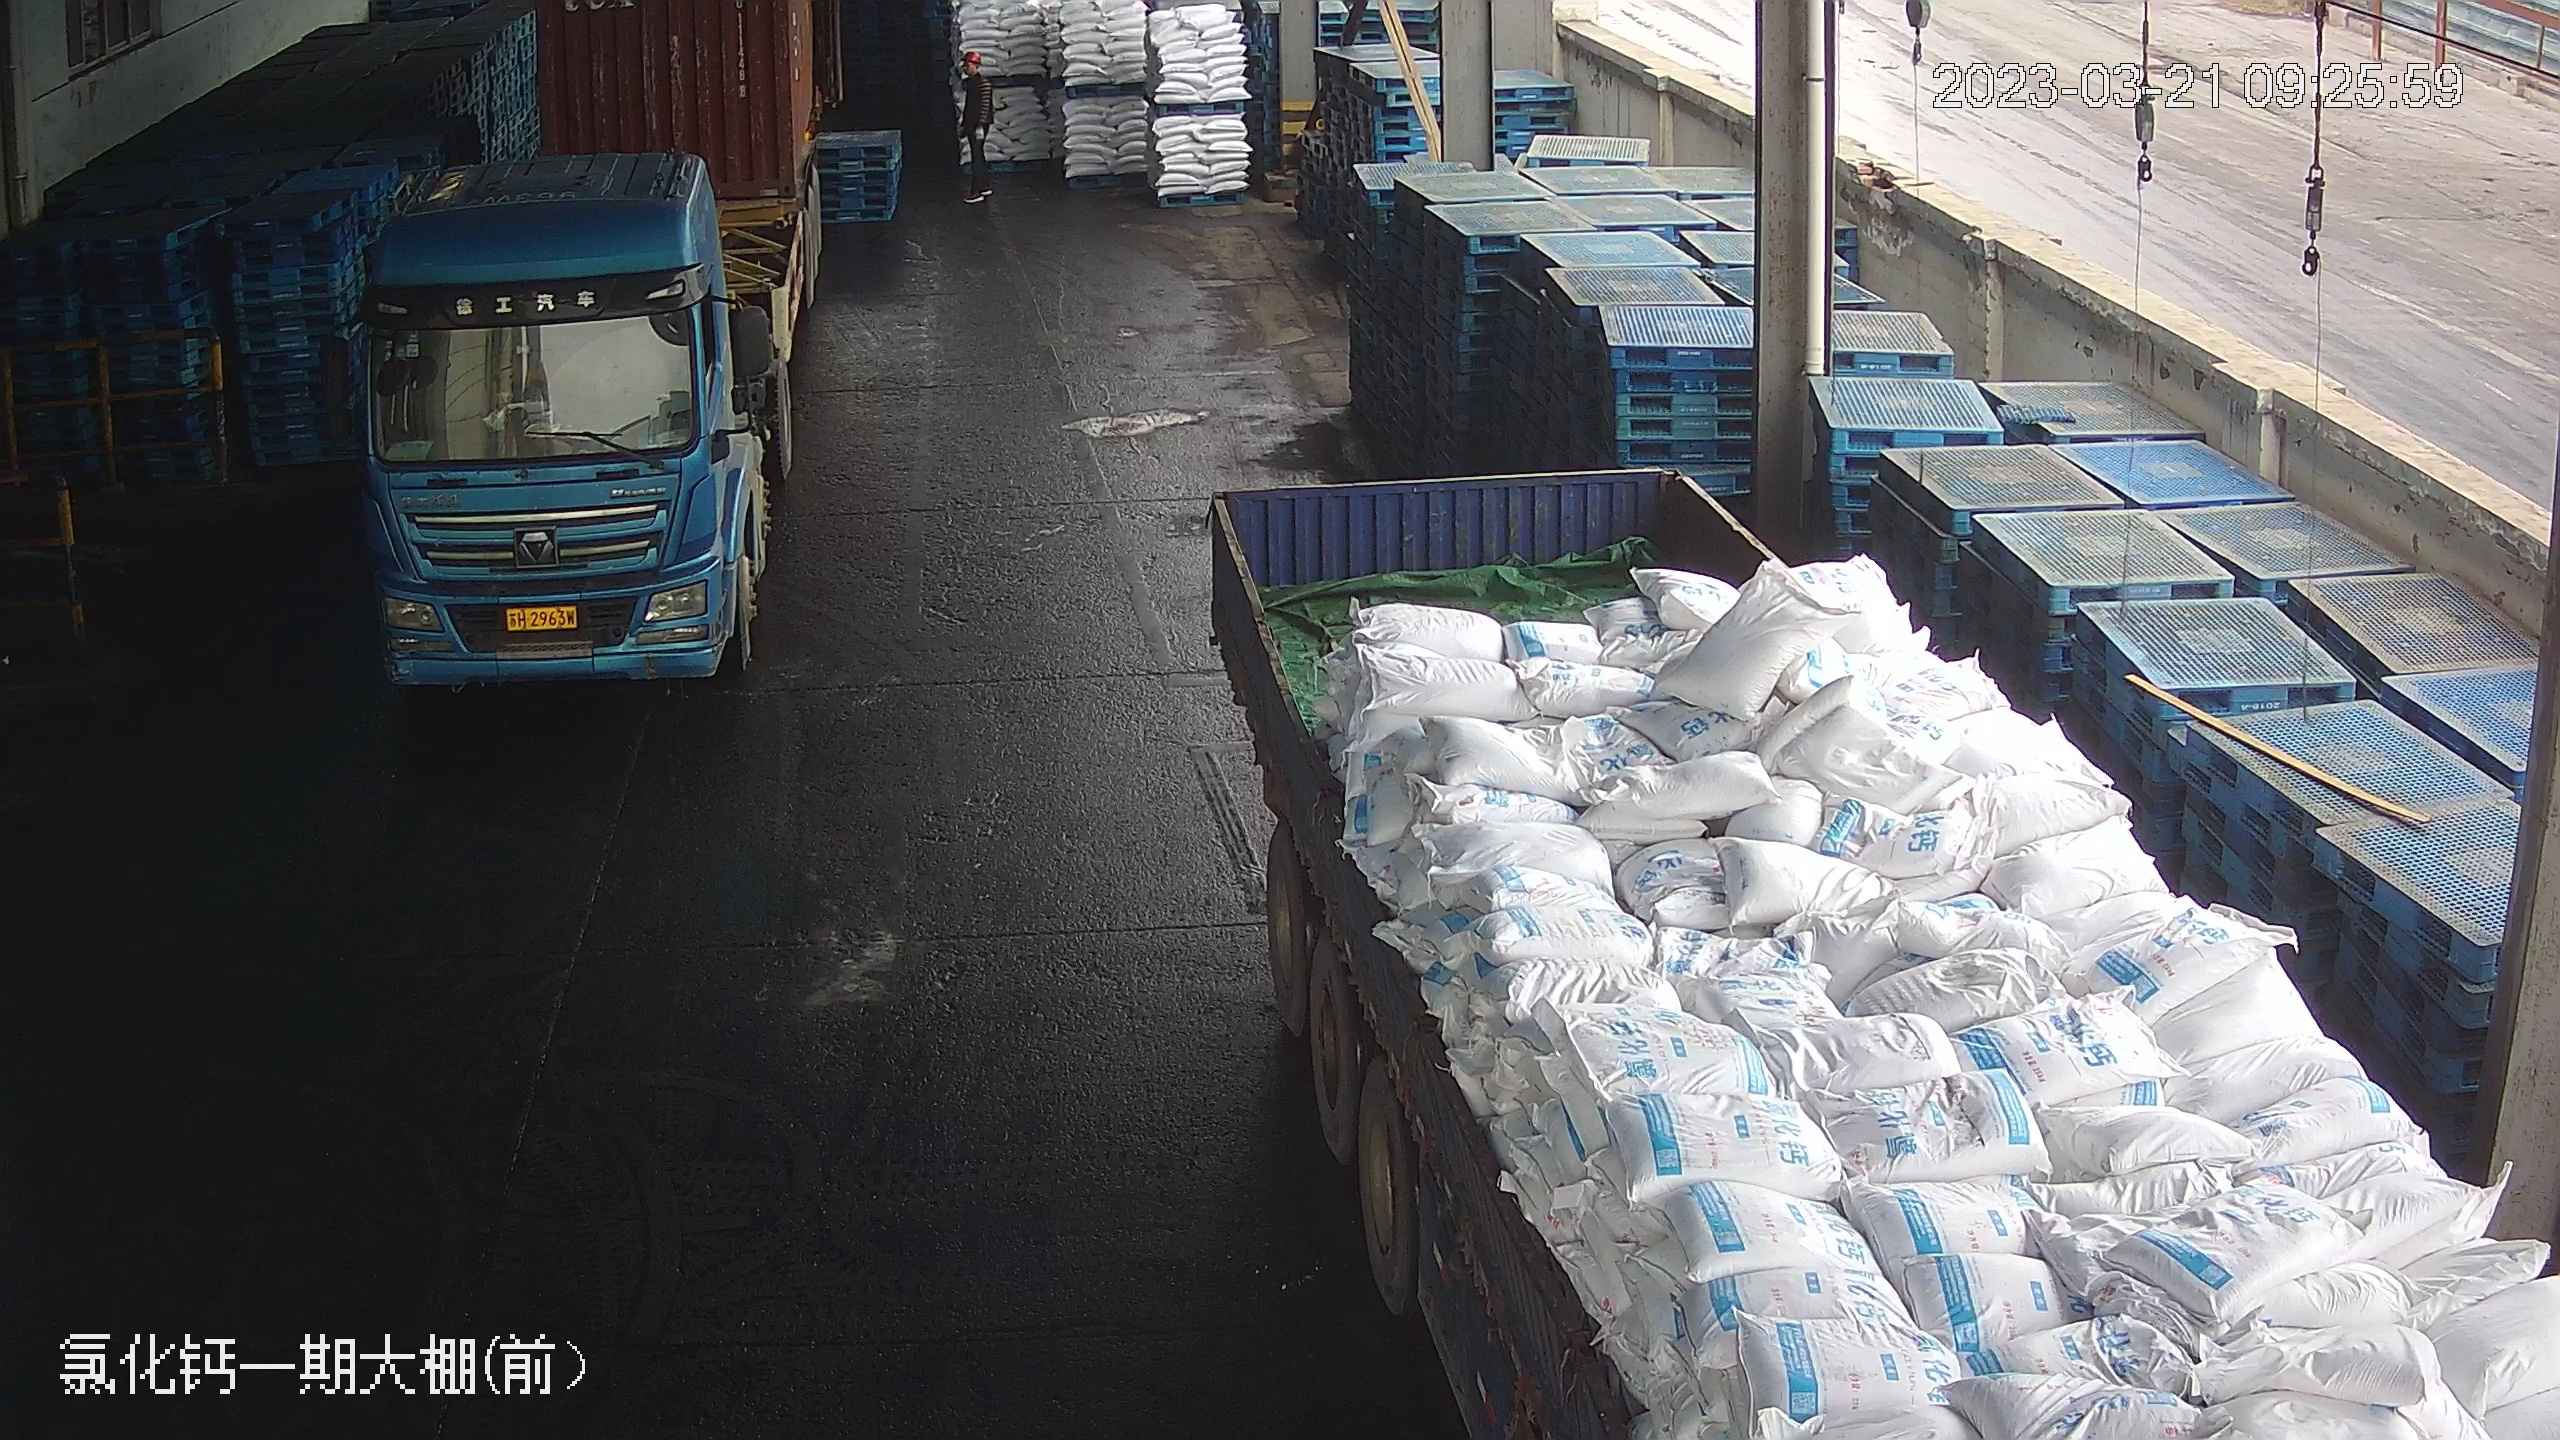head: (958, 49, 994, 93)
helmet: (960, 50, 979, 66)
people: (955, 39, 997, 190)
truck: (1191, 404, 2513, 1429), (326, 0, 829, 686)
